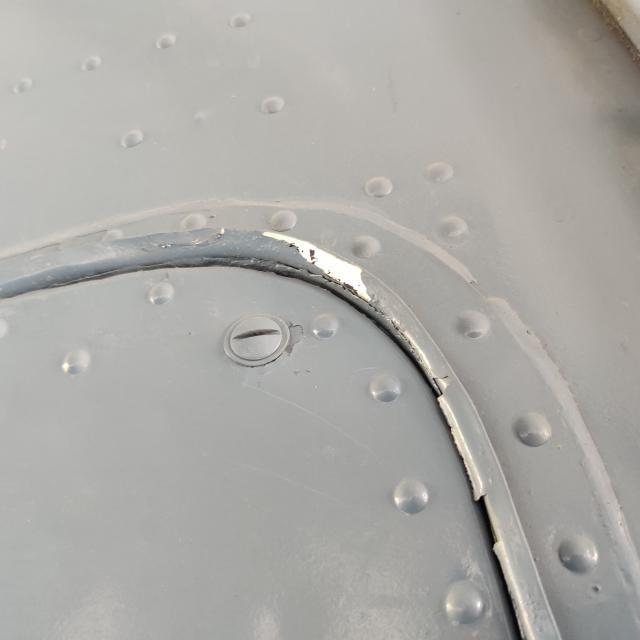Paint-off: (263, 232, 372, 302)
